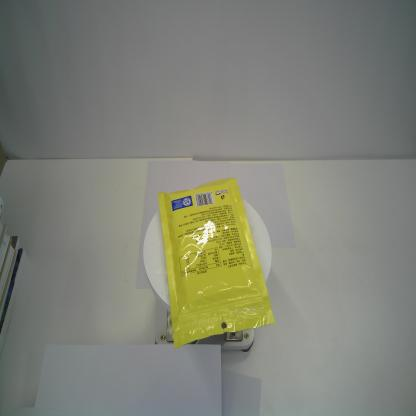Dried Fruit: (158, 177, 275, 351)
